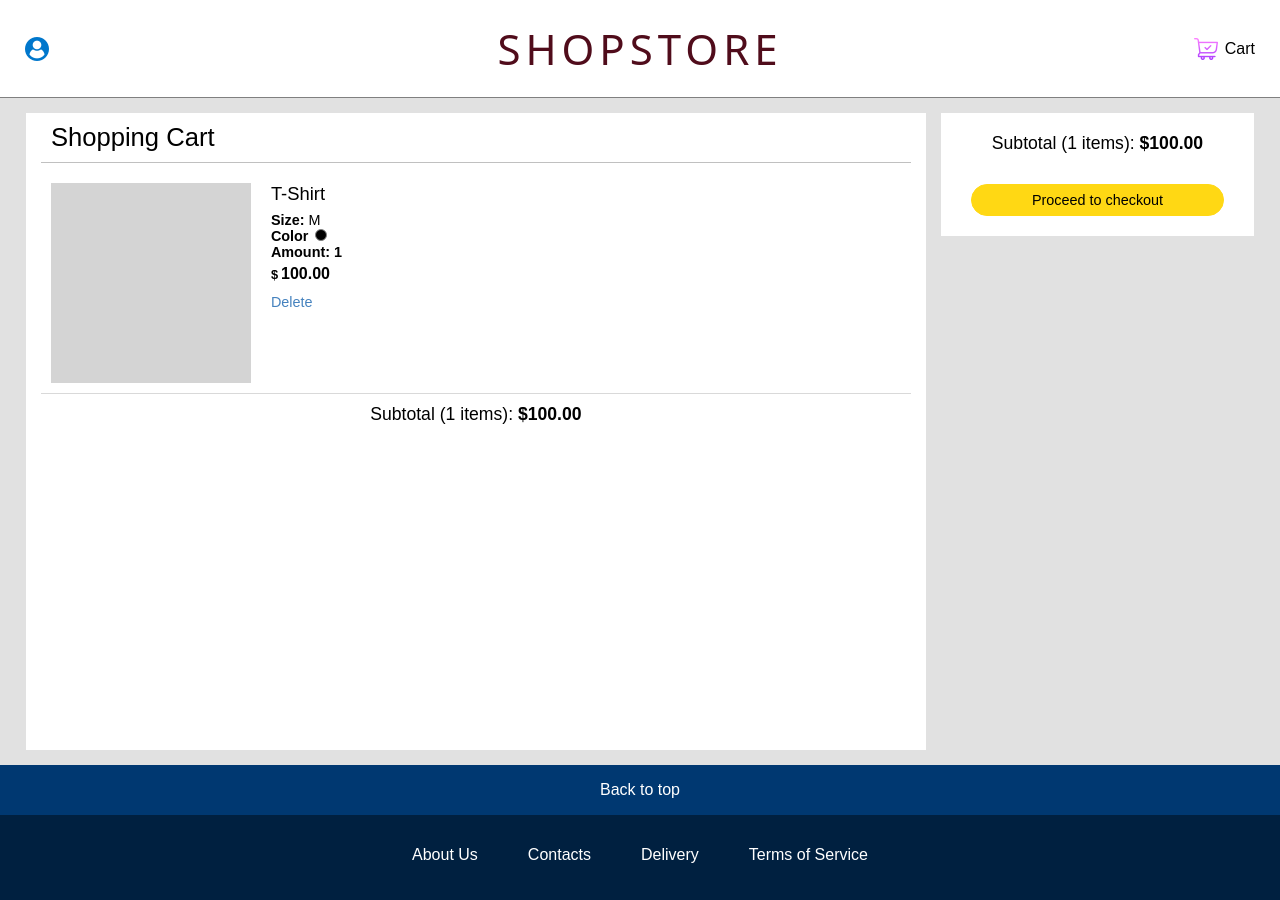
Test: Cart › shows content and allows deleting a position
expect the heading "Shopping Cart" is shown: met, box [51,123,214,151]
expect the text "T-Shirt" is shown: met, box [271,183,325,204]
Click the button "Delete" at {"x": 292, "y": 302}, box [271,294,312,310]
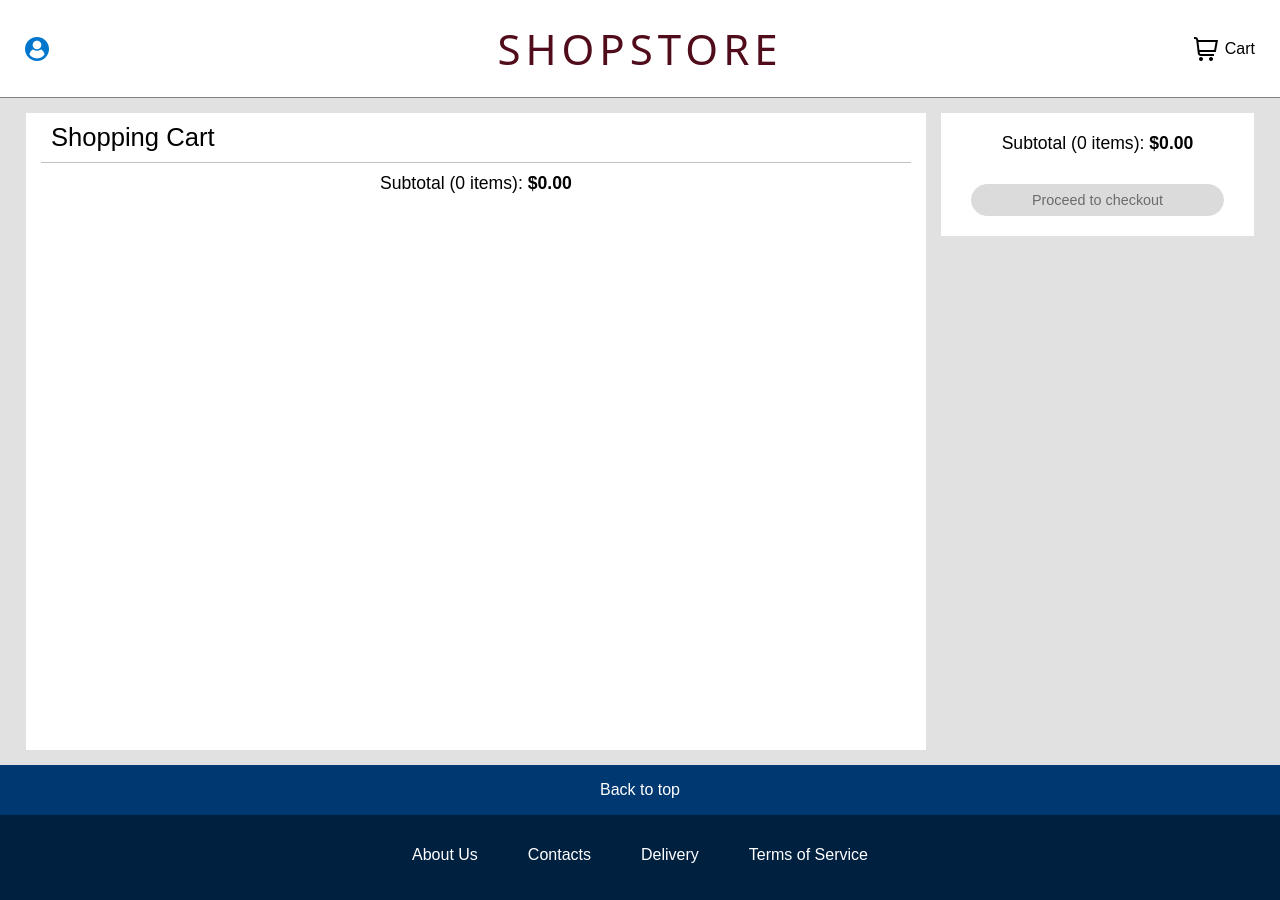
expect the text "Subtotal (0 items): $0.00" is shown 2 times: met, box [380,173,572,193]; [1002,133,1193,153]
expect the text "T-Shirt" is gone: met
expect the text "$0.00" is shown 2 times: met, box [528,173,572,193]; [1149,133,1193,153]
